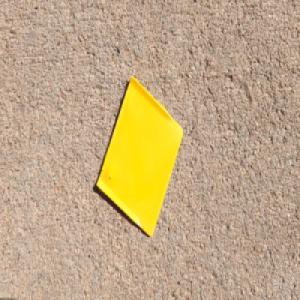PlasticPart: (96, 74, 185, 238)
